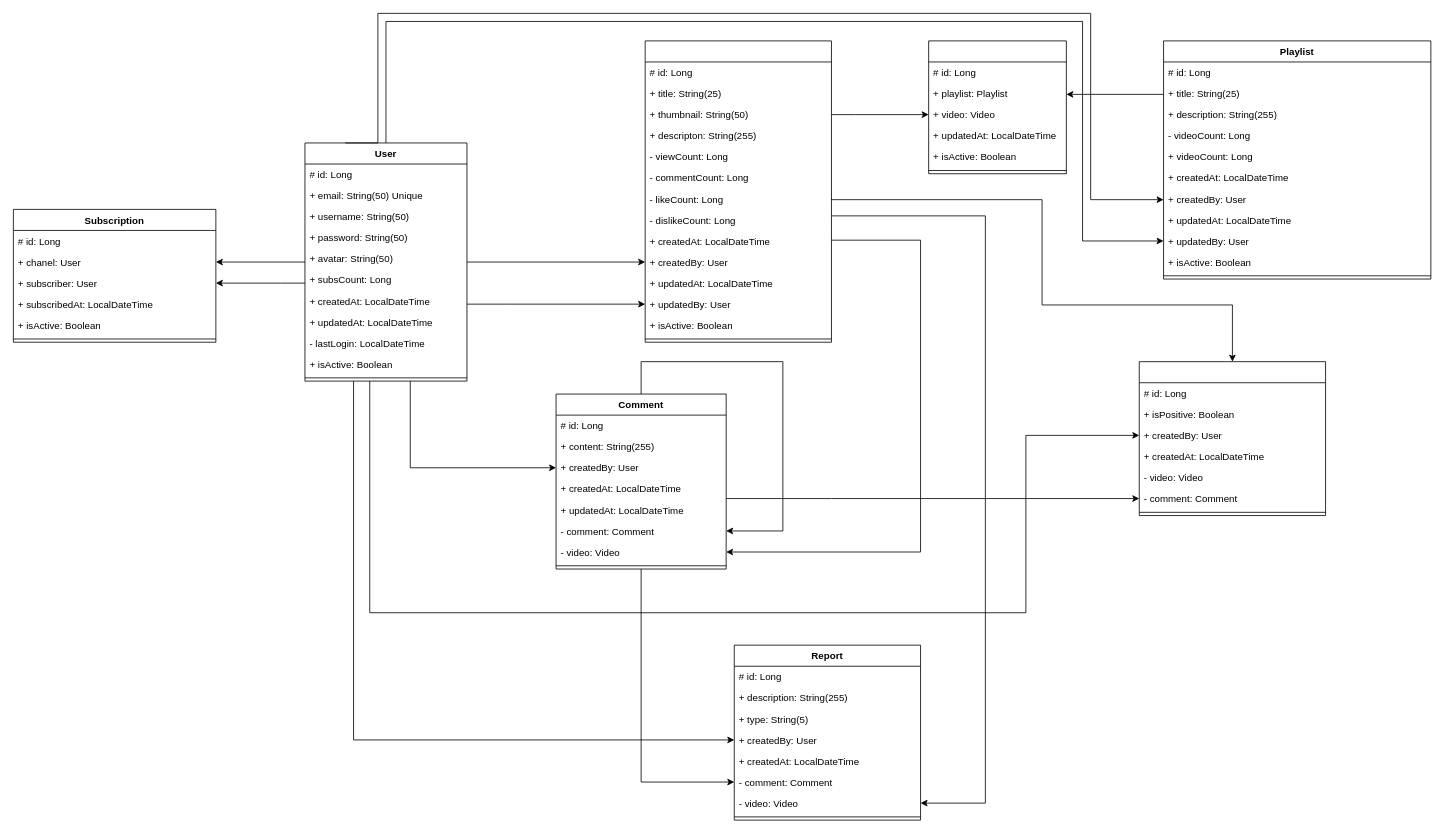
The diagram is 1444 pixels wide and 833 high, and some of its shapes have lost their labels. Each missing label, with the box of its shape:
Evaluation: (1138, 361, 1326, 516)
PlaylistVideo: (928, 40, 1066, 174)
Video: (644, 40, 831, 342)
